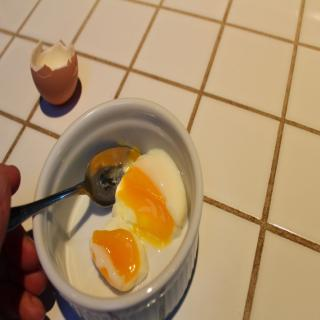Egg: (86, 151, 192, 290)
